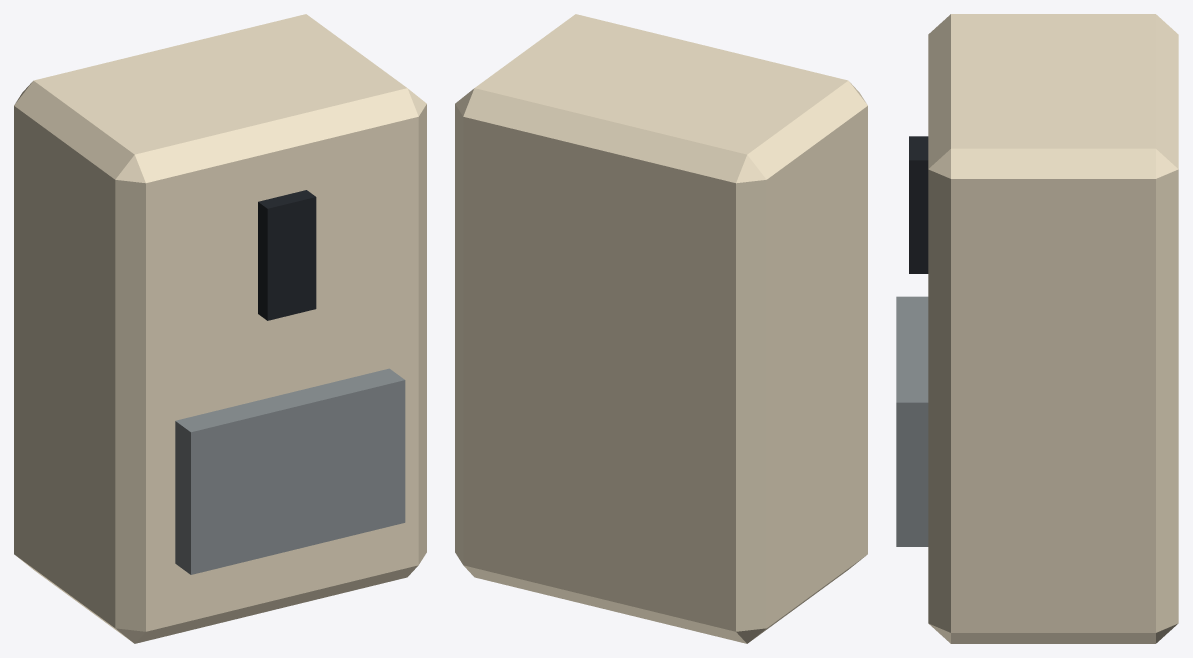
The model's file is restroom_soap_dispenser.glb.
3 renders of one model, left to right at view 1: azimuth 30°, elevation 25°; view 2: azimuth 150°, elevation 25°; view 3: azimuth 270°, elevation 25°, orthographic.
Visible parts, largest first — view 1: restroom_soap_dispenser; view 2: restroom_soap_dispenser; view 3: restroom_soap_dispenser.
Boxes of the visible parts, x1,y1,x2,y2 form: restroom_soap_dispenser: [14, 14, 426, 643]; restroom_soap_dispenser: [455, 14, 867, 643]; restroom_soap_dispenser: [896, 14, 1178, 643].
Size of the model in its own units: 0.16 by 0.24 by 0.124.
Materials: 3 (3 with a texture image).
